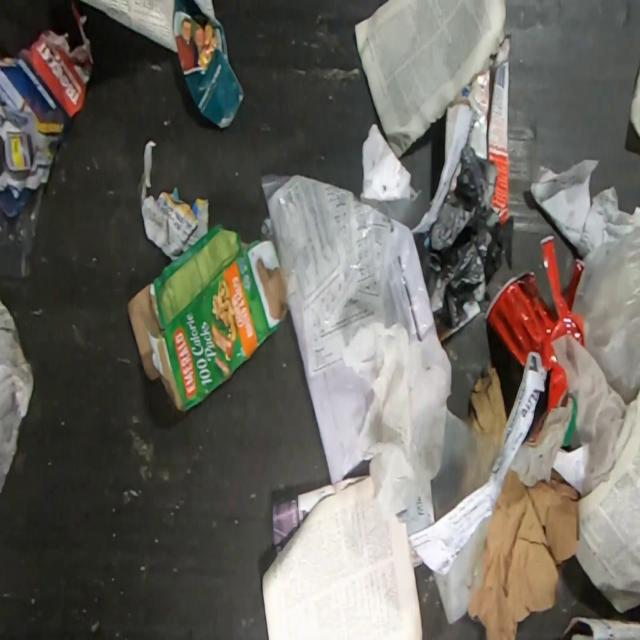cardboard: (126, 224, 286, 417), (452, 31, 510, 225)
rigid_plastic: (484, 234, 586, 409)
soft_plastic: (260, 172, 440, 483), (422, 145, 513, 337), (570, 225, 640, 406), (0, 193, 42, 293)
